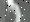person: (6, 1, 24, 22)
